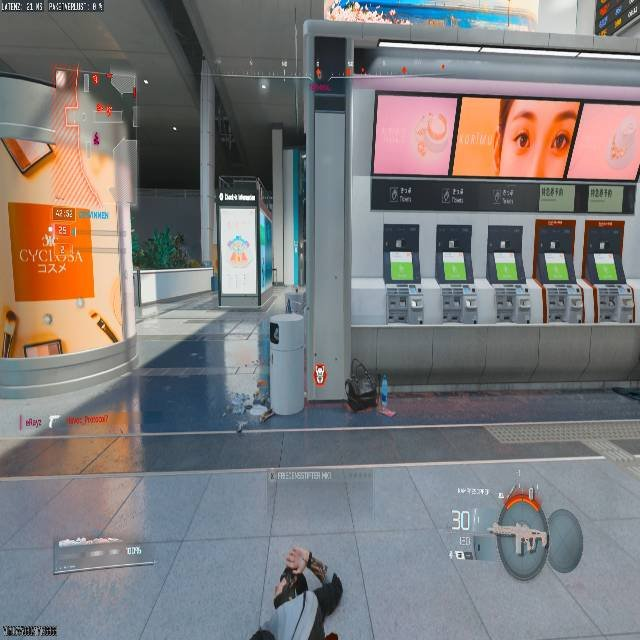head: (282, 546, 309, 574)
player: (251, 546, 344, 639), (233, 379, 275, 432)
